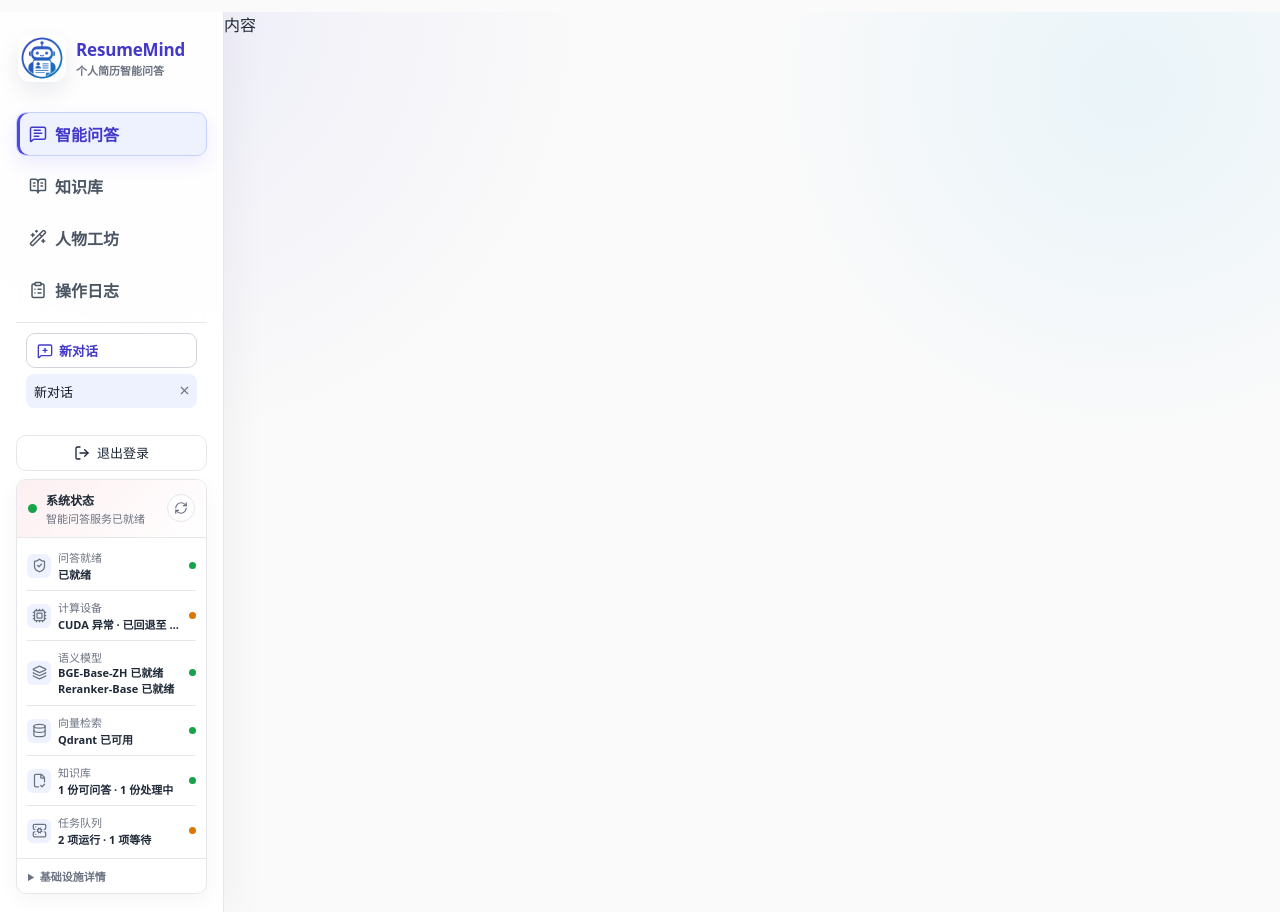
Scenario: AppShell system status › shows an explicit CPU fallback warning when CUDA is unavailable
Expected: the text "CUDA 异常 · 已回退至 CPU" is shown, [58,616,182,632]
Click the heading "基础设施详情" at x=73, y=876, box [40,869,106,884]
(page scrolled)
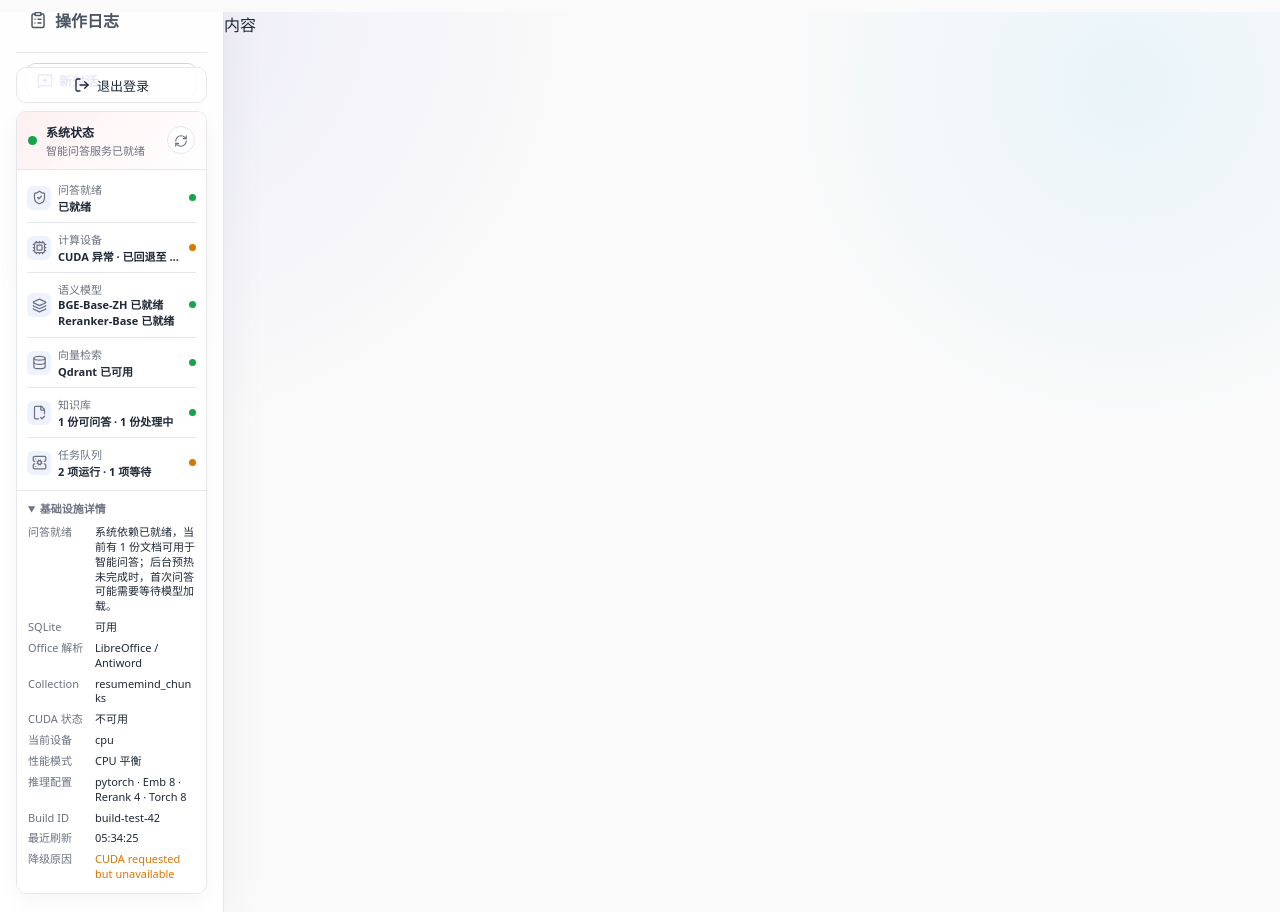
Expected: the text "不可用" is shown, [95,711,128,726]
Expected: the text "CUDA requested but unavailable" is shown, [95,852,195,882]
